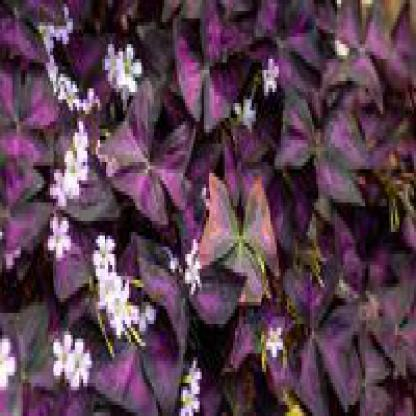Kupu-Kupu: (201, 182, 274, 285), (174, 16, 236, 134), (124, 104, 176, 215), (292, 285, 344, 388), (288, 111, 357, 178)
